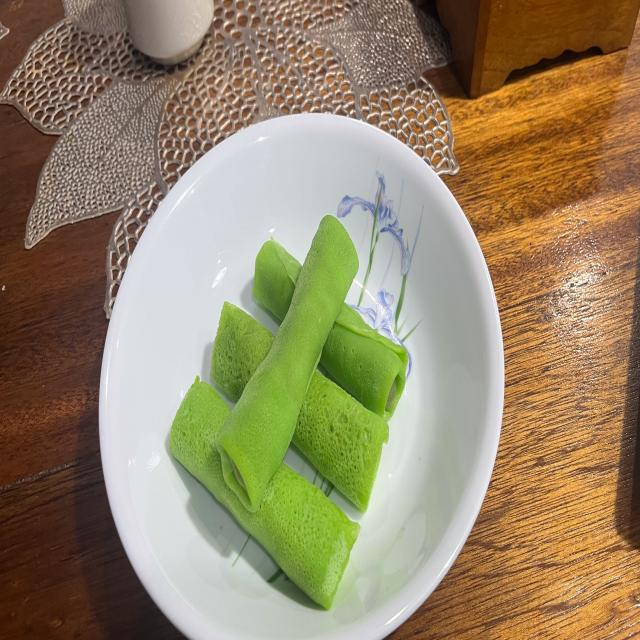Kuih-Ketayap: (170, 378, 359, 607), (216, 216, 359, 511), (292, 371, 389, 511), (321, 304, 408, 420), (210, 302, 274, 400), (252, 238, 301, 322)
